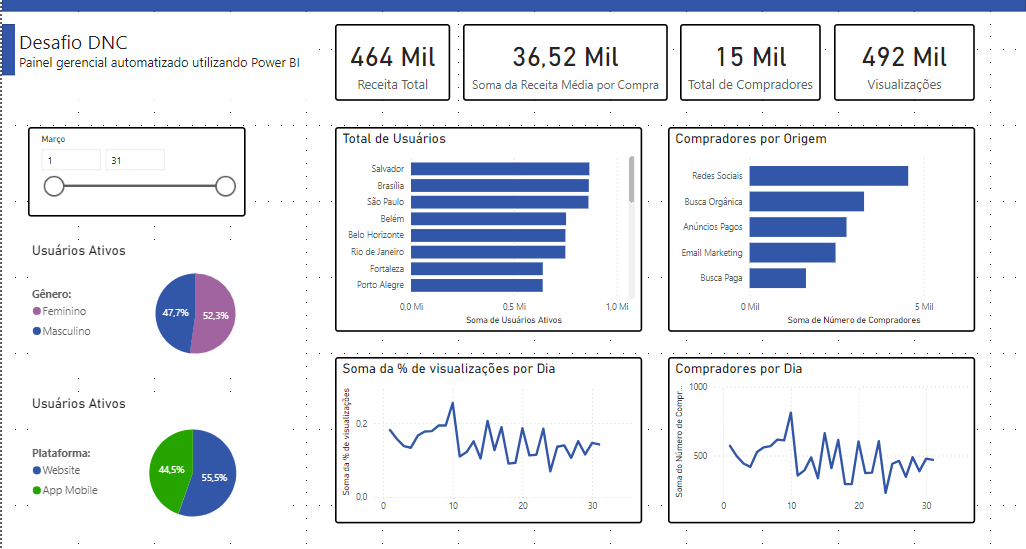

The page's visual inventory and layout, read from the dashboard file:
{"tool":"powerbi","page":{"name":"Página 1","canvas":[1280,720],"ordinal":0},"visuals":[{"type":"shape","box":[0,64,320,64],"z":0},{"type":"card","title":"Total de Visualizações","fields":{"Values":["Sum(Planilha1.Visualizações na Página)"]},"box":[1040,64,176,96],"z":1000},{"type":"card","fields":{"Values":["Sum(Planilha1.Número de Compradores)"]},"box":[848,64,176,96],"z":2000},{"type":"card","fields":{"Values":["Sum(Planilha1.Receita Média por Compra)"]},"box":[576,64,256,96],"z":3000},{"type":"card","fields":{"Values":["Sum(Planilha1.Receita Total)"]},"box":[416,64,144,96],"z":4000},{"type":"slicer","fields":{"Values":["Planilha1.Data.Variation.Hierarquia de datas.Dia"]},"box":[32,192,272,112],"z":5000},{"type":"pieChart","title":"Usuários Ativos","fields":{"Y":["Sum(Planilha1.Usuários Ativos)"],"Category":["Planilha1.Gênero"]},"box":[32,336,336,160],"z":6000},{"type":"pieChart","title":"Usuários Ativos","fields":{"Y":["Sum(Planilha1.Usuários Ativos)"],"Category":["Planilha1.Plataforma Utilizada"]},"box":[32,528,320,176],"z":7000},{"type":"barChart","title":"Compradores por Origem","fields":{"Y":["Sum(Planilha1.Número de Compradores)"],"Category":["Planilha1.Origem"]},"box":[832,192,384,256],"z":8000},{"type":"barChart","title":"Total de Usuários","fields":{"Category":["Planilha1.Cidade"],"Y":["Sum(Planilha1.Usuários Ativos)"]},"box":[416,192,384,256],"z":9000},{"type":"lineChart","title":"Compradores por Dia","fields":{"Y":["Sum(Planilha1.Número de Compradores)"],"Category":["Planilha1.Data.Variation.Hierarquia de datas.Dia"]},"box":[832,480,384,208],"z":10000},{"type":"lineChart","fields":{"Y":["Sum(Planilha1.% de visualizações)"],"Category":["Planilha1.Data.Variation.Hierarquia de datas.Dia"]},"box":[416,480,384,208],"z":11000},{"type":"textbox","box":[16,64,368,96],"z":12000},{"type":"shape","box":[0,0,1280,48],"z":13000}]}

Visuals, with their boxes in screenshot pixels (x1, y1, x2, y2):
shape: (left=0, top=22, right=253, bottom=74)
"Total de Visualizações" card: (left=833, top=22, right=975, bottom=100)
card - Sum(Planilha1.Número de Compradores): (left=678, top=22, right=820, bottom=100)
card - Sum(Planilha1.Receita Média por Compra): (left=459, top=22, right=666, bottom=100)
card - Sum(Planilha1.Receita Total): (left=330, top=22, right=446, bottom=100)
slicer - Planilha1.Data.Variation.Hierarquia de datas.Dia: (left=20, top=125, right=240, bottom=216)
"Usuários Ativos" pieChart: (left=20, top=242, right=291, bottom=371)
"Usuários Ativos" pieChart: (left=20, top=396, right=279, bottom=538)
"Compradores por Origem" barChart: (left=666, top=125, right=975, bottom=332)
"Total de Usuários" barChart: (left=330, top=125, right=640, bottom=332)
"Compradores por Dia" lineChart: (left=666, top=358, right=975, bottom=525)
lineChart - Sum(Planilha1.% de visualizações) x Planilha1.Data.Variation.Hierarquia de datas.Dia: (left=330, top=358, right=640, bottom=525)
textbox: (left=8, top=22, right=304, bottom=100)
shape: (left=0, top=0, right=1025, bottom=9)
